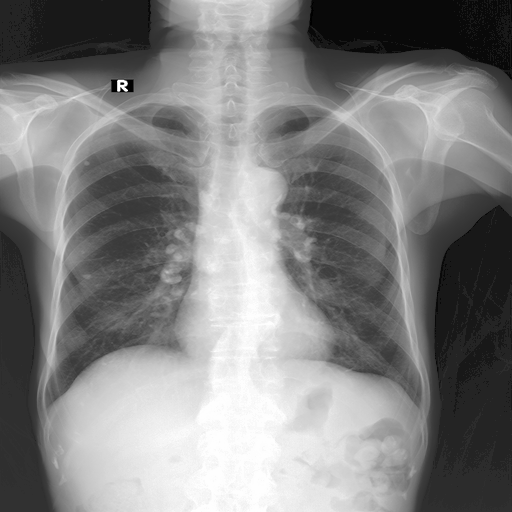Consolidation: (239, 166, 290, 207)
Lung Opacity: (158, 223, 196, 298), (278, 211, 314, 263), (80, 273, 93, 279)
Other lesion: (158, 220, 199, 303), (275, 210, 311, 263), (81, 274, 91, 279), (84, 160, 90, 165)
Pulmonary fibrosis: (81, 274, 91, 279), (84, 160, 90, 165)
